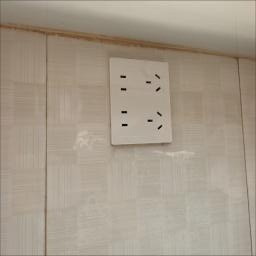outlet: (108, 57, 178, 144)
